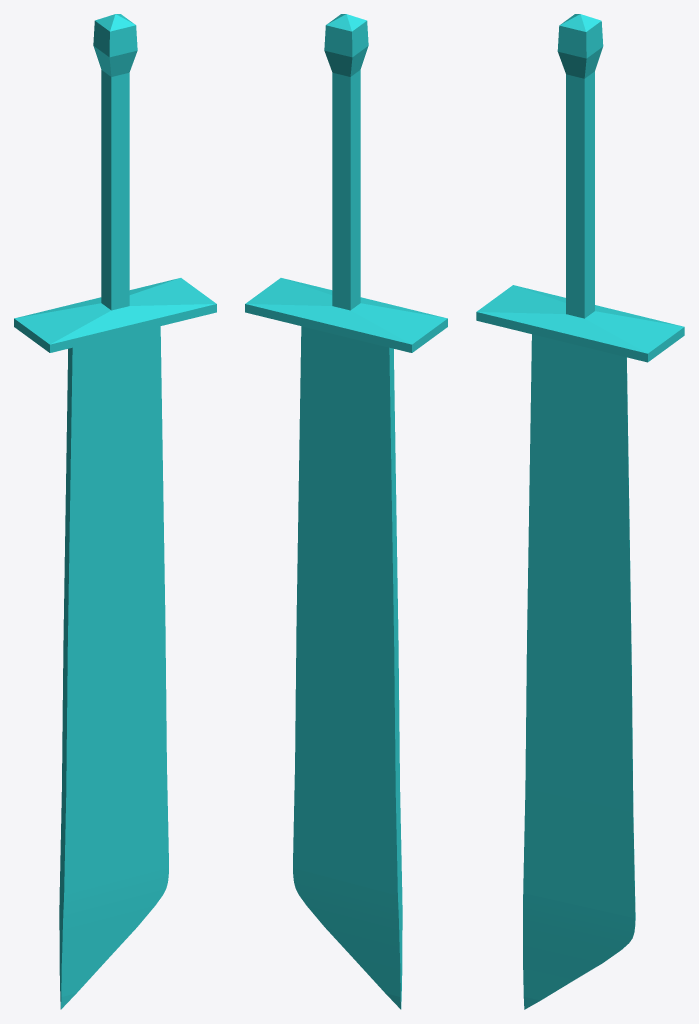
The model's file is swordTest.gltf.
3 renders of one model, left to right at view 1: azimuth 30°, elevation 25°; view 2: azimuth 150°, elevation 25°; view 3: azimuth 330°, elevation 25°, orthographic. The views are drawn at different scales.
Visible parts, largest first — view 1: Cube; view 2: Cube; view 3: Cube.
Part boxes in pixels (bbox=[...]): Cube: bbox=[14, 14, 216, 1009]; Cube: bbox=[245, 14, 447, 1009]; Cube: bbox=[476, 14, 684, 1009].
Bounding box in the file's own units: 2.31 × 12.97 × 0.8563.
